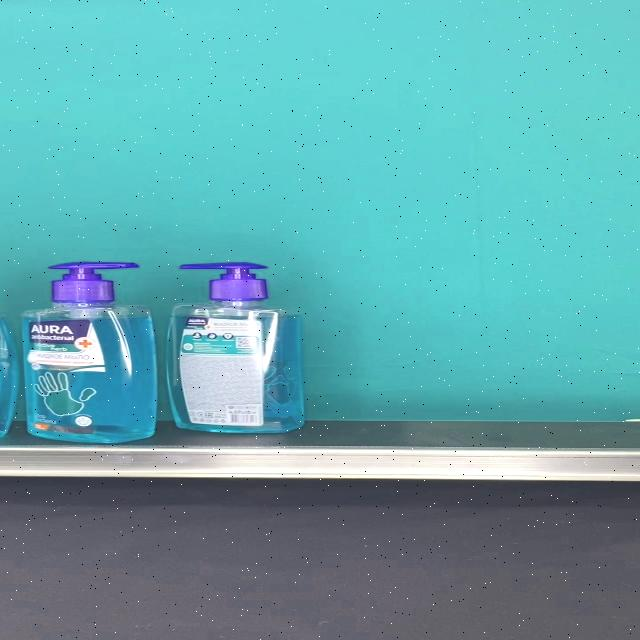Bottle: (22, 260, 156, 443), (164, 262, 304, 433)
Cap: (48, 260, 140, 302), (178, 262, 268, 302)
